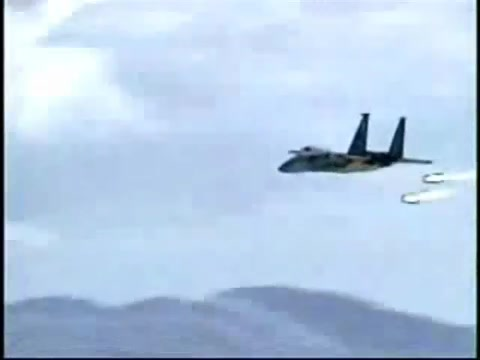aeroplane: (277, 111, 434, 178)
